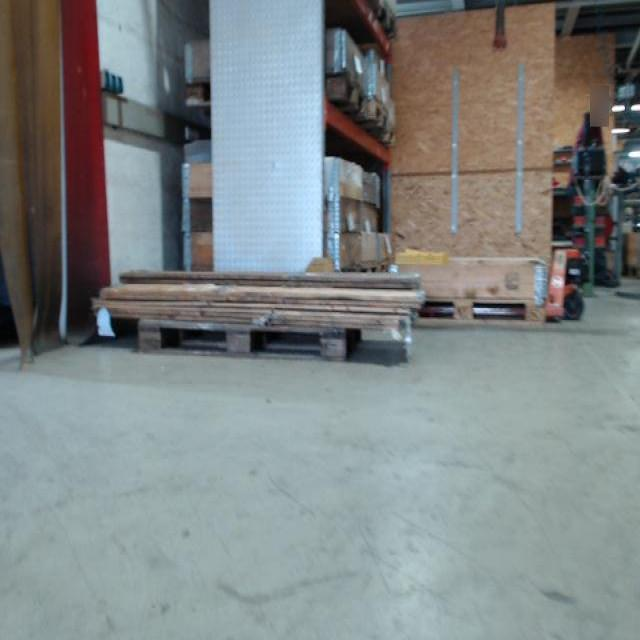pallet: (138, 318, 364, 364), (414, 294, 545, 331)
pallet_truck: (542, 230, 592, 330)
